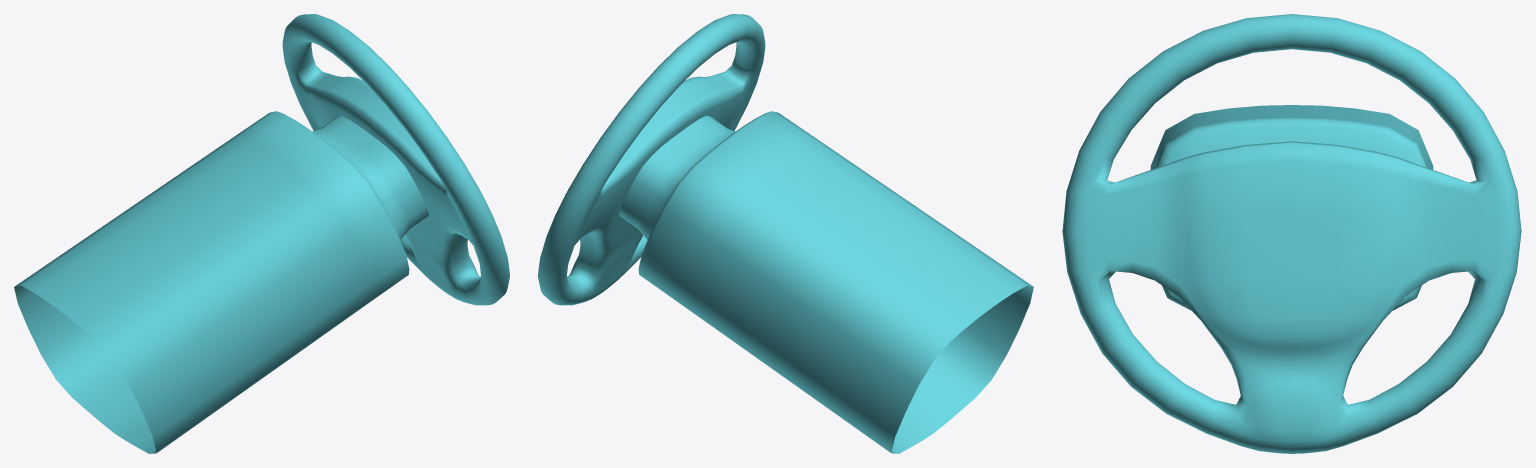
The model's file is Steering_Angle_Sensor.gltf.
The picture shows the model from 3 angles, left to right: view 1: azimuth 30°, elevation 25°; view 2: azimuth 150°, elevation 25°; view 3: azimuth 270°, elevation 25°; orthographic projection. The views are drawn at different scales.
Parts seen in each view (by area): view 1: Steering_Angle_Sensor; view 2: Steering_Angle_Sensor; view 3: Steering_Angle_Sensor.
Part boxes in pixels (<box>): Steering_Angle_Sensor: <box>14,14,509,453</box>; Steering_Angle_Sensor: <box>538,14,1033,453</box>; Steering_Angle_Sensor: <box>1062,14,1521,453</box>.
Bounding box in the file's own units: 0.694 × 0.5612 × 0.5286.
